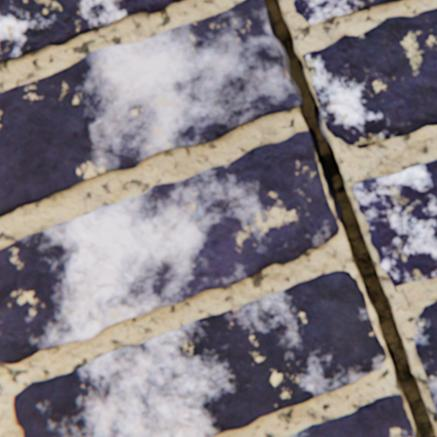brick: (0, 131, 338, 363), (0, 0, 299, 216), (14, 270, 385, 436), (303, 8, 436, 148), (0, 0, 186, 63), (352, 159, 436, 289), (286, 393, 414, 436), (294, 0, 403, 24), (413, 300, 436, 412)
crack: (263, 0, 436, 436)
